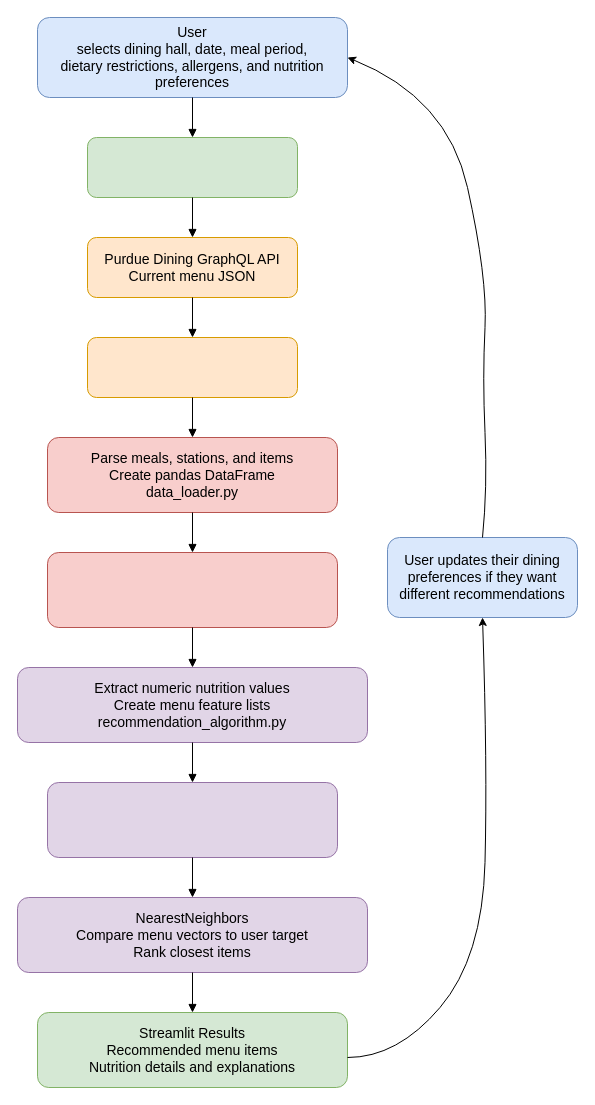
Image size: 595x1105. Some labels were removed from this diagram. Each missing label, with the centre of its shape:
"Fetch menu data data_loader.py" belongs at pixel 192 367.
"Filter dietary restrictions and allergens data_filterer.py" belongs at pixel 192 590.
"StandardScaler Scale menu features and user target" belongs at pixel 192 820.
"Streamlit Interface app.py" belongs at pixel 192 167.
